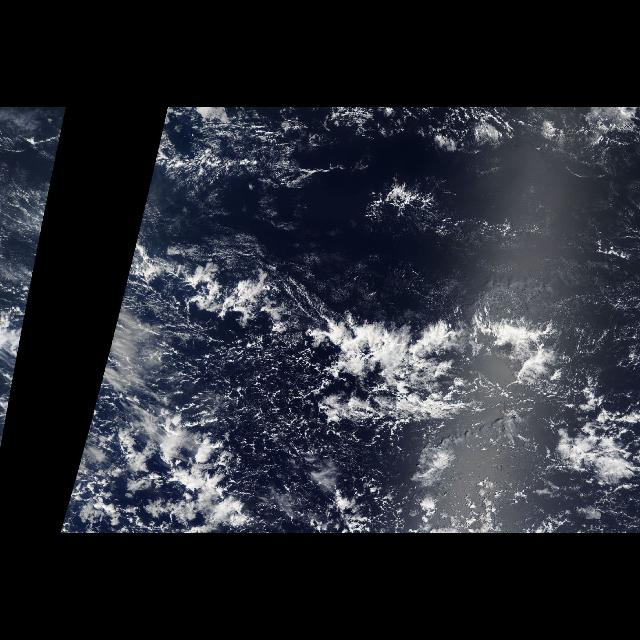Fish: (92, 217, 636, 476)
Gravel: (77, 295, 635, 533)
